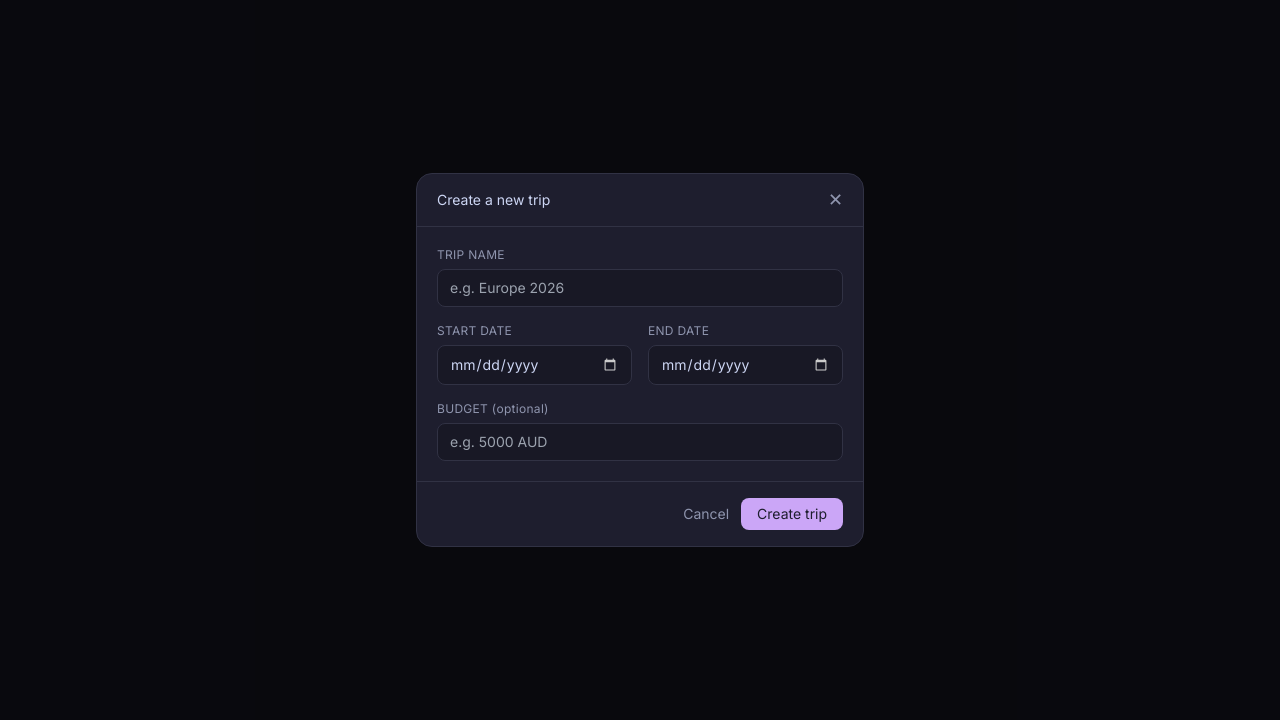
Test case: CreateTripModal › requires a trip name before creating
Click the button "Create trip": coordinates (792, 514) [741,498,843,530]
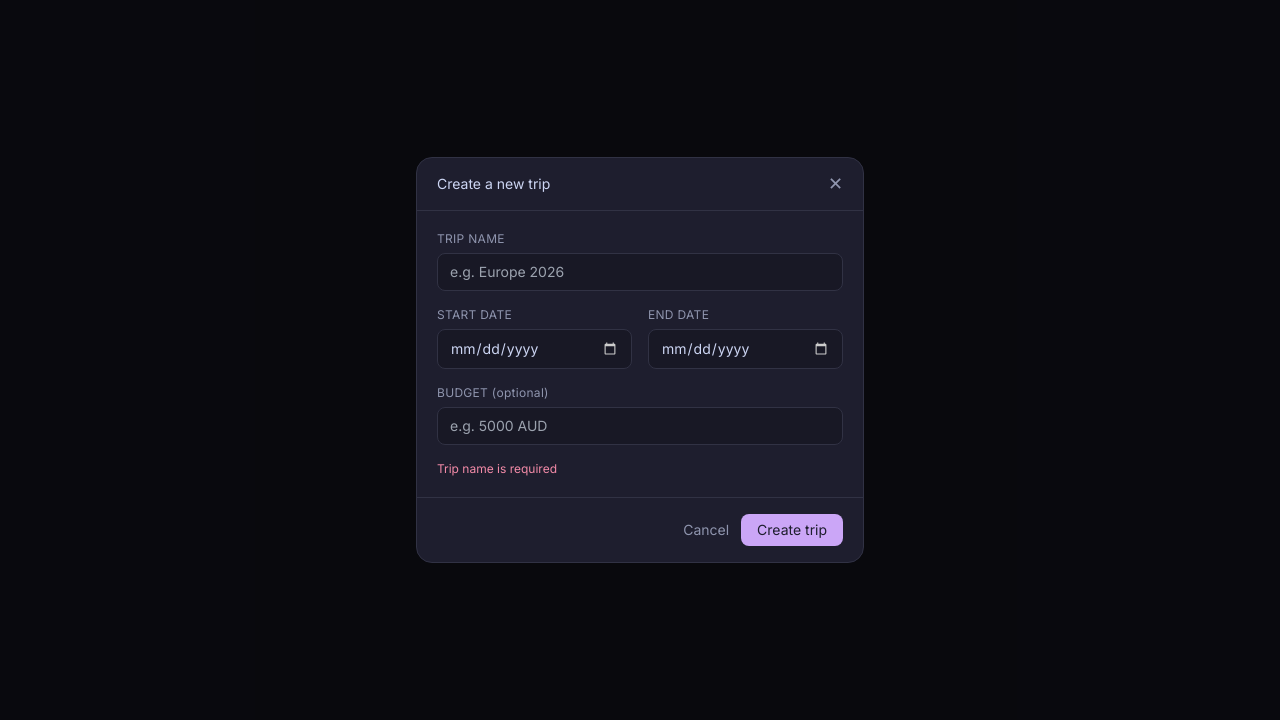
Now the text "Trip name is required" is shown, box [437,461,557,476]
